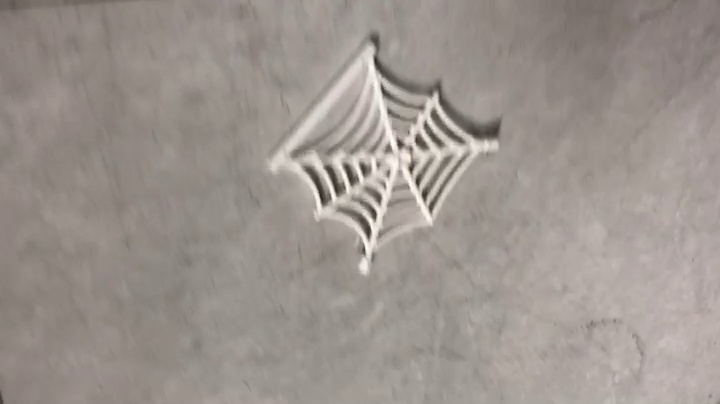web: (264, 31, 503, 276)
